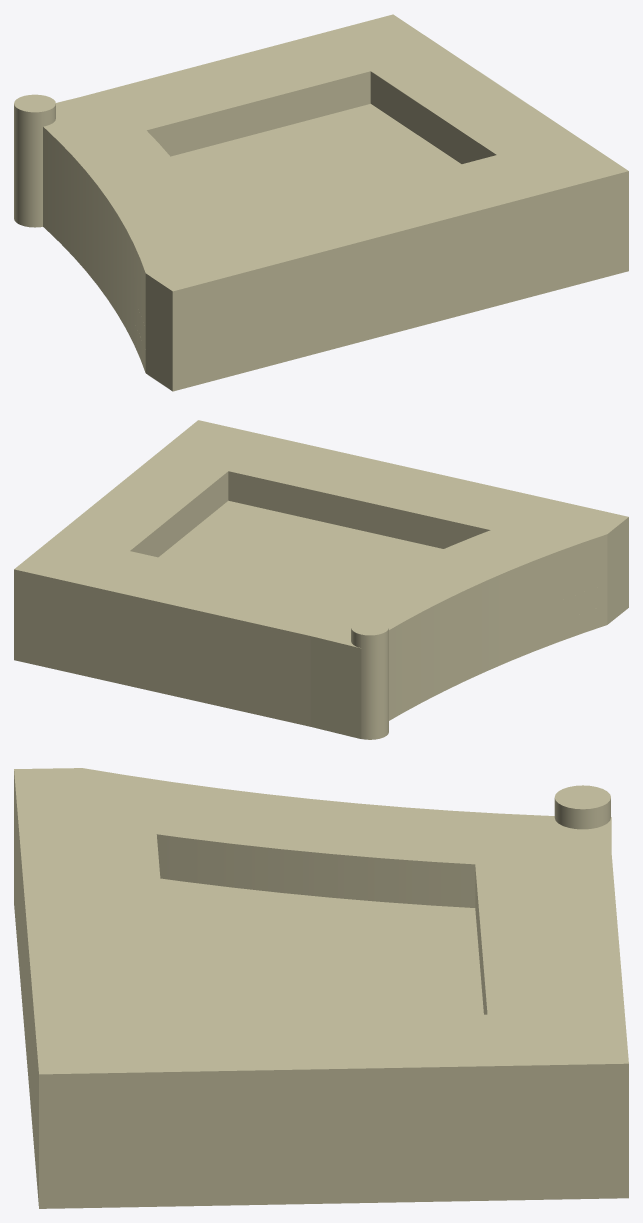
The model's file is SM_WhiteModel_1.FBX.
3 renders of one model, top to bottom at view 1: azimuth 30°, elevation 25°; view 2: azimuth 150°, elevation 25°; view 3: azimuth 270°, elevation 25°, orthographic. The views are drawn at different scales.
Parts seen in each view (by area): view 1: SM_WhiteModel_1; view 2: SM_WhiteModel_1; view 3: SM_WhiteModel_1.
Boxes of the visible parts, x1,y1,x2,y2 form: SM_WhiteModel_1: (14,14,628,391); SM_WhiteModel_1: (14,420,628,739); SM_WhiteModel_1: (14,768,628,1208).
Bounding box in the file's own units: 9766 × 8285 × 2300.
